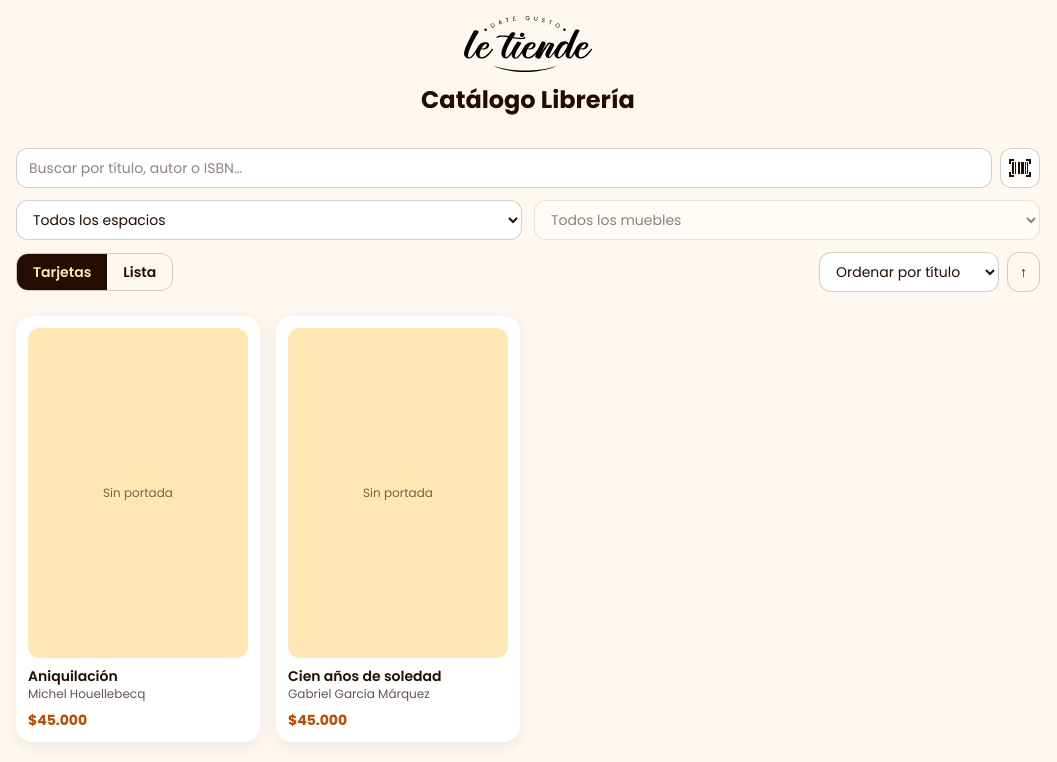
Test: CatalogoPublicoComponent › filtro por ubicación (Espacio/Mueble) › filtra por Espacio (resuelve ubicacionId → muebleId → espacioId)
Select "Sala VIP" in the 1st dropdown. click: (269, 220)
box: [16,200,522,240]
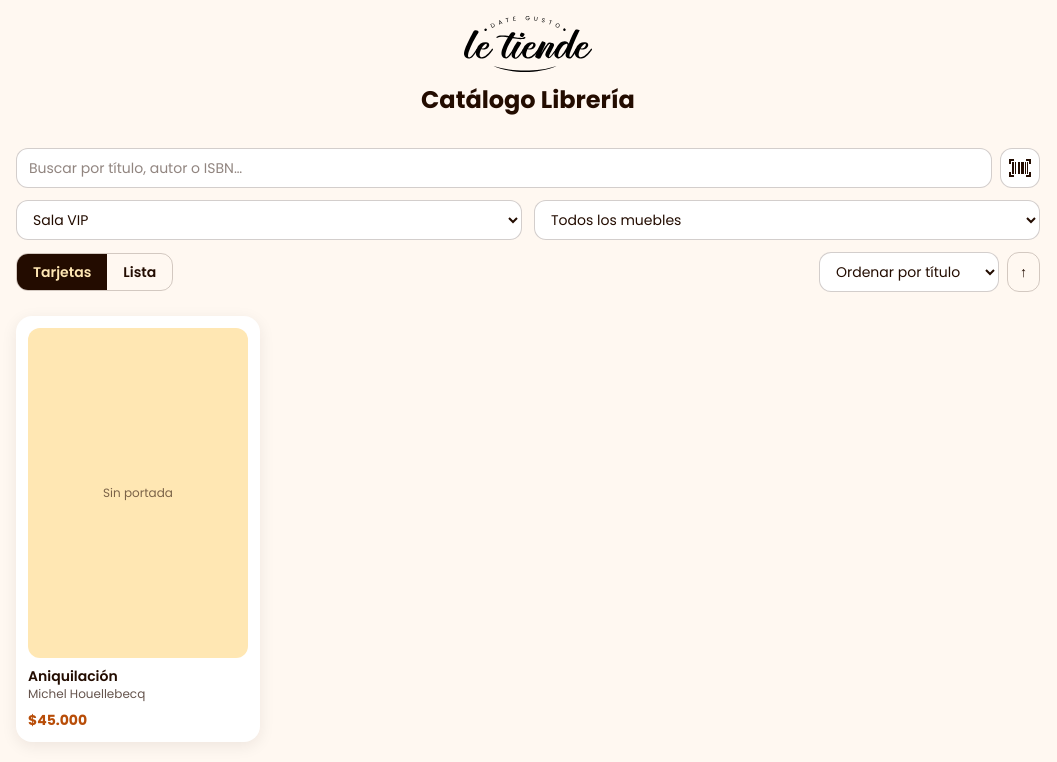
expect the text "Aniquilación" is shown: met, box [28,666,118,686]
expect the text "Cien años de soledad" is gone: met
